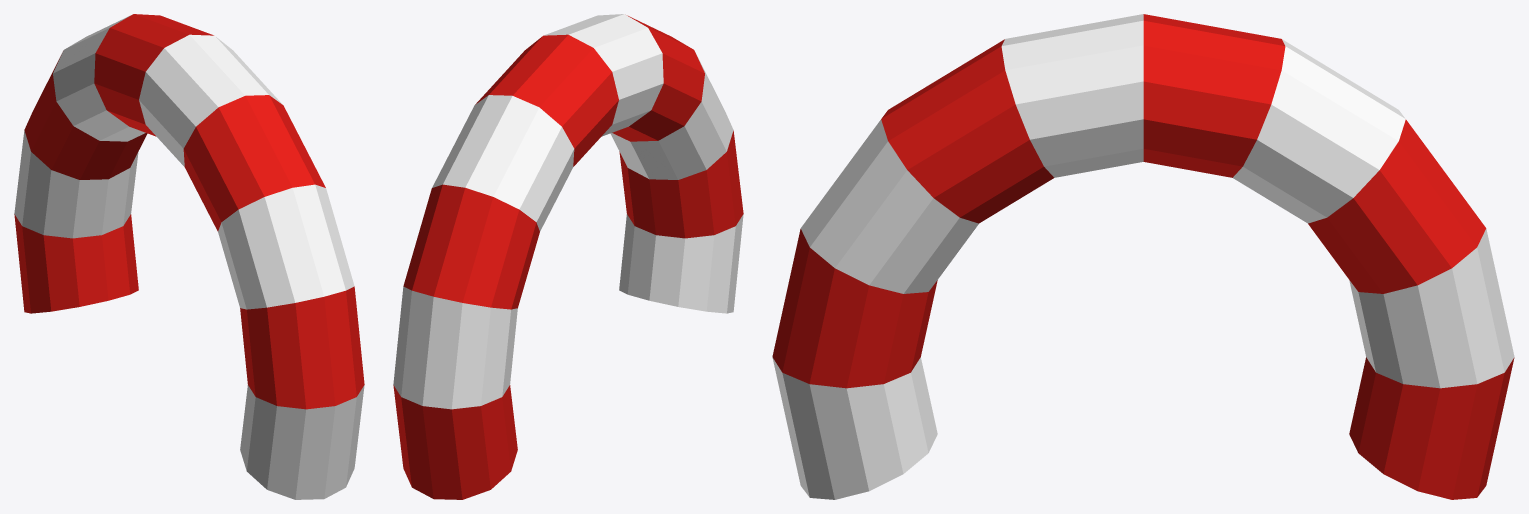
The model's file is arch_1.glb.
3 renders of one model, left to right at view 1: azimuth 30°, elevation 25°; view 2: azimuth 150°, elevation 25°; view 3: azimuth 270°, elevation 25°, orthographic. The views are drawn at different scales.
Parts seen in each view (by area): view 1: arco_1; view 2: arco_1; view 3: arco_1.
Part boxes in pixels (left/top/right/bottom): arco_1: left=14, top=14, right=364, bottom=499; arco_1: left=393, top=14, right=743, bottom=499; arco_1: left=772, top=14, right=1514, bottom=499.
Size of the model in its own units: 10.82 by 37.41 by 54.12.
